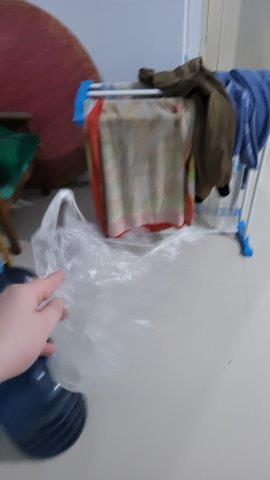plastik: (29, 187, 208, 394)
